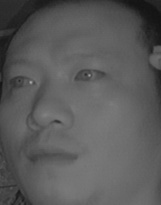eye: (72, 66, 106, 84), (9, 72, 39, 90)
mouth: (24, 137, 83, 172)
